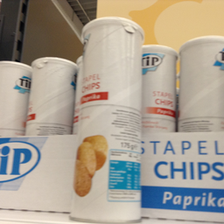chips: (70, 16, 143, 224), (181, 37, 223, 134), (25, 58, 75, 137), (1, 59, 30, 139)
